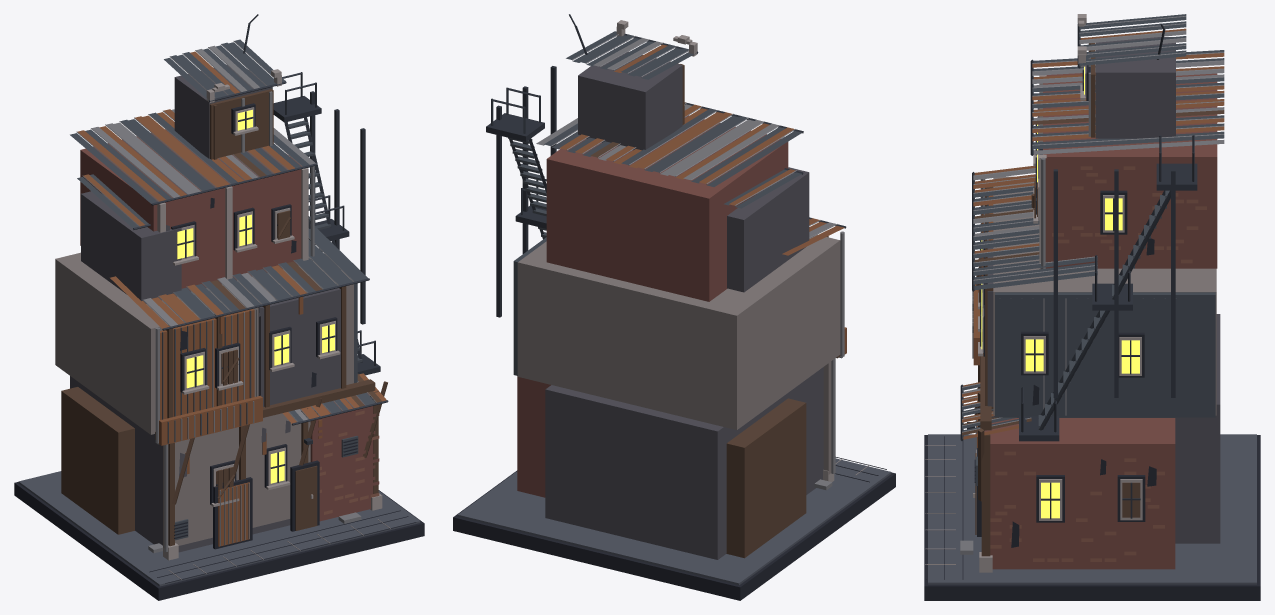
The model's file is gotham_favela_04_8bit.glb.
The picture shows the model from 3 angles, left to right: view 1: azimuth 30°, elevation 25°; view 2: azimuth 150°, elevation 25°; view 3: azimuth 270°, elevation 25°; orthographic projection. The views are drawn at different scales.
Parts seen in each view (by area): view 1: SM_Gotham_Favela_04_8bit; view 2: SM_Gotham_Favela_04_8bit; view 3: SM_Gotham_Favela_04_8bit.
Part boxes in pixels (bbox=[...]): SM_Gotham_Favela_04_8bit: bbox=[14, 14, 424, 600]; SM_Gotham_Favela_04_8bit: bbox=[453, 14, 895, 600]; SM_Gotham_Favela_04_8bit: bbox=[924, 14, 1260, 600].
Bounding box in the file's own units: 9.75 × 16.23 × 9.15.
